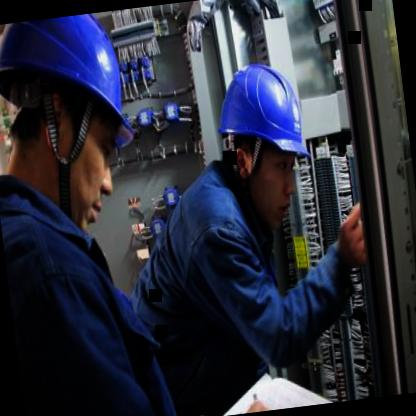helmet: (0, 7, 155, 219), (202, 34, 325, 241)
